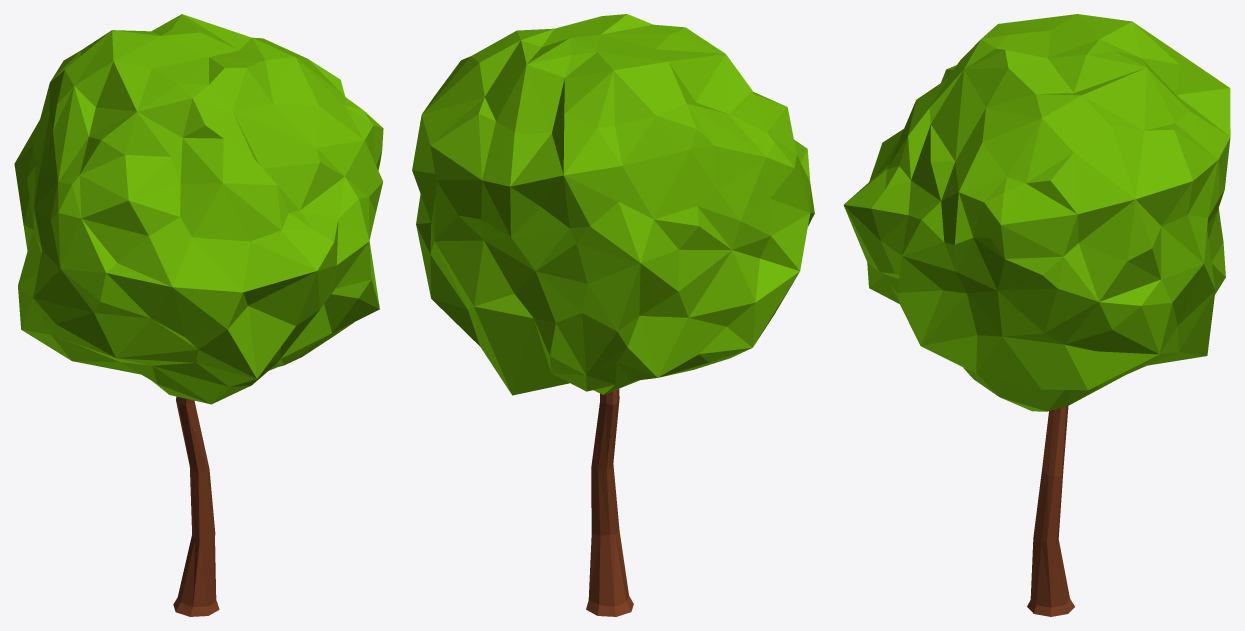
File: growing-tree1.glb
3 views of the same model, side by side, from view 1: azimuth 30°, elevation 25°; view 2: azimuth 150°, elevation 25°; view 3: azimuth 270°, elevation 25° (orthographic). The views are drawn at different scales.
Visible parts, largest first — view 1: Tree.1; view 2: Tree.1; view 3: Tree.1.
Part boxes in pixels (bbox=[...]): Tree.1: bbox=[14, 14, 383, 616]; Tree.1: bbox=[412, 14, 814, 616]; Tree.1: bbox=[843, 14, 1230, 616].
Size of the model in its own units: 0.1521 by 0.2385 by 0.1484.
